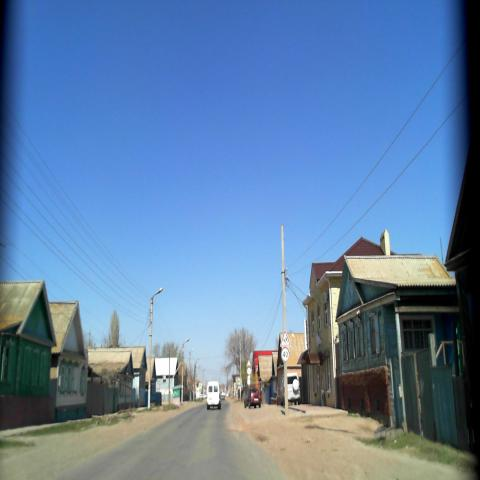1_23: (278, 330, 290, 348)
